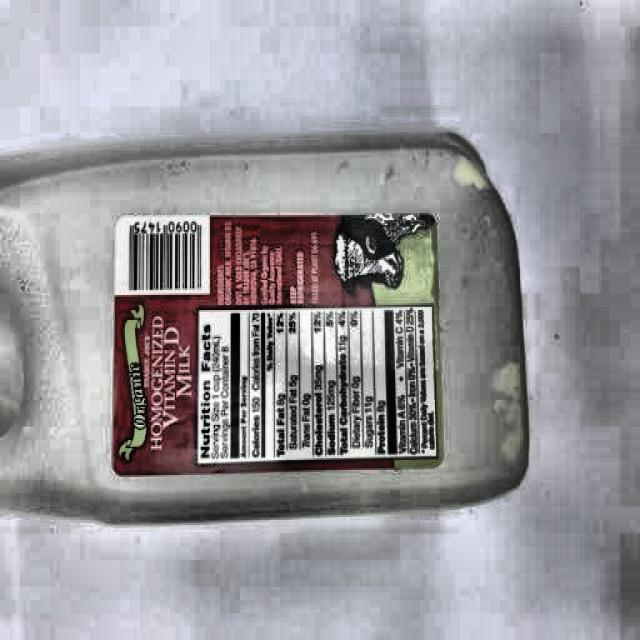plastic: (0, 131, 529, 537)
